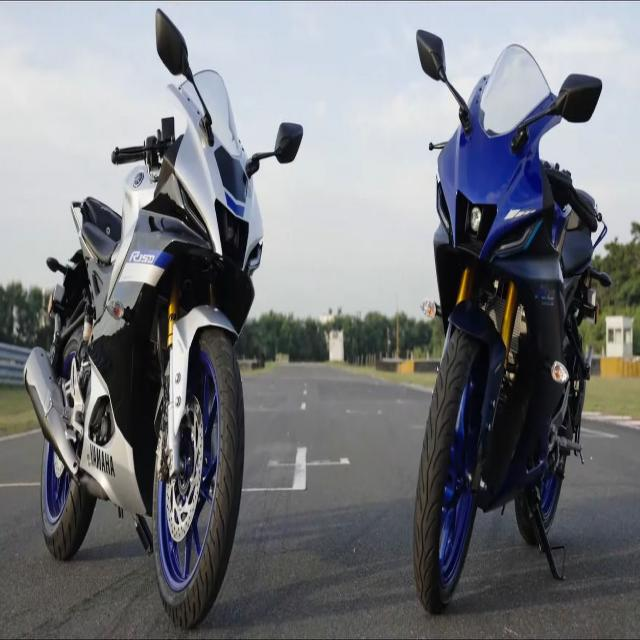Bike: (23, 10, 304, 630), (411, 28, 612, 618)
